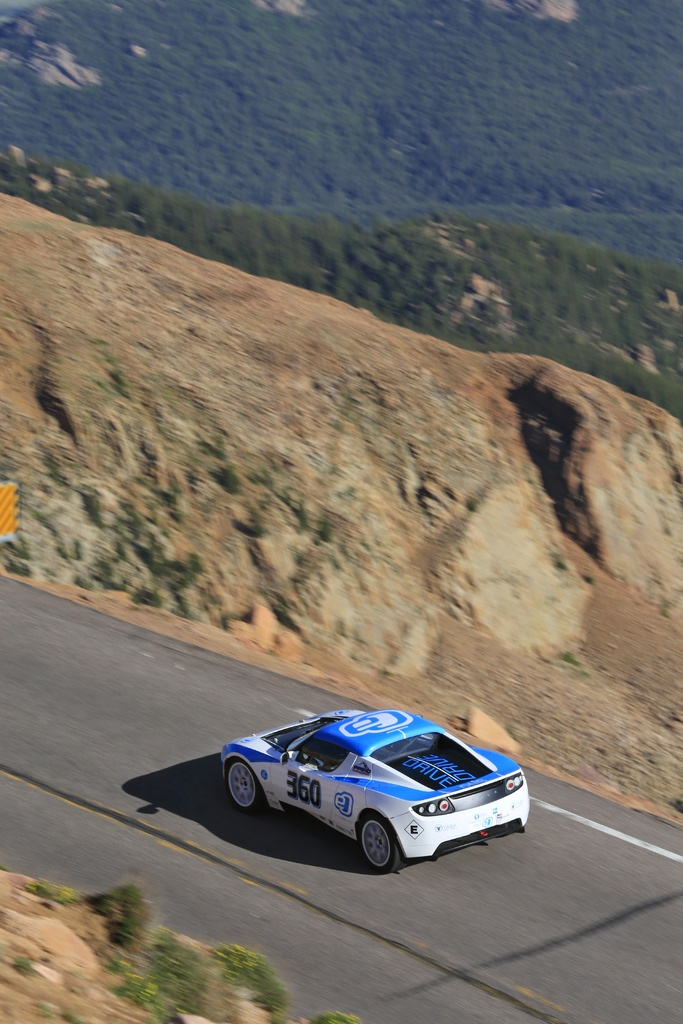Car: (218, 707, 533, 868)
